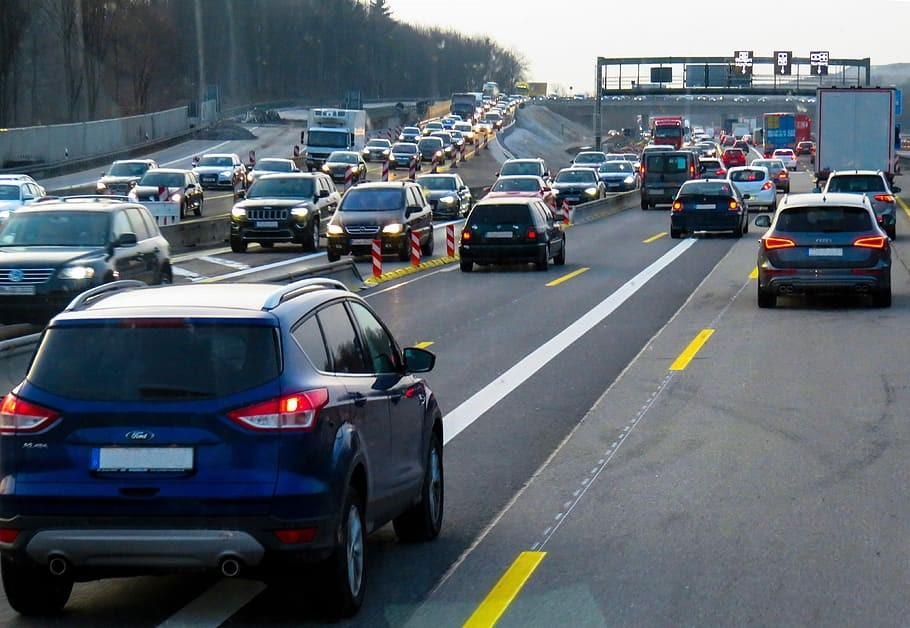LightVehicle: (1, 278, 448, 600), (754, 197, 895, 314), (458, 199, 566, 271), (227, 173, 319, 252), (670, 177, 747, 241)
